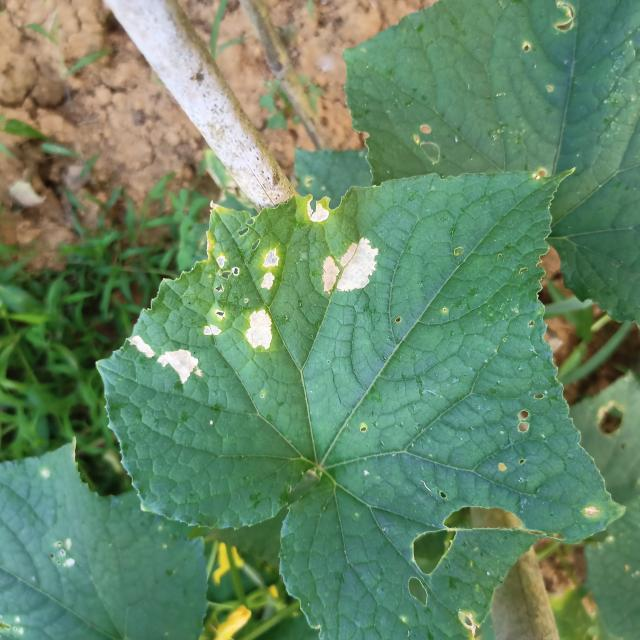disease_cucumber: (197, 226, 293, 356), (126, 332, 204, 390), (317, 234, 384, 296), (301, 196, 333, 226)
